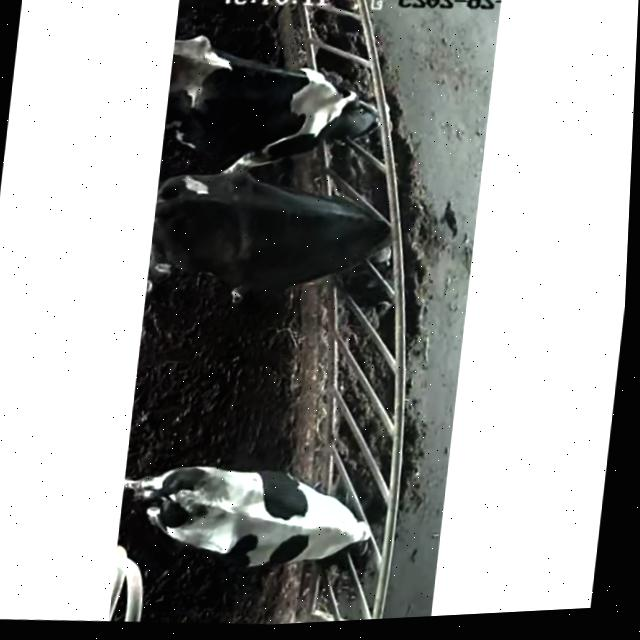eat: (228, 32, 442, 166), (229, 467, 448, 588), (250, 177, 437, 301)
